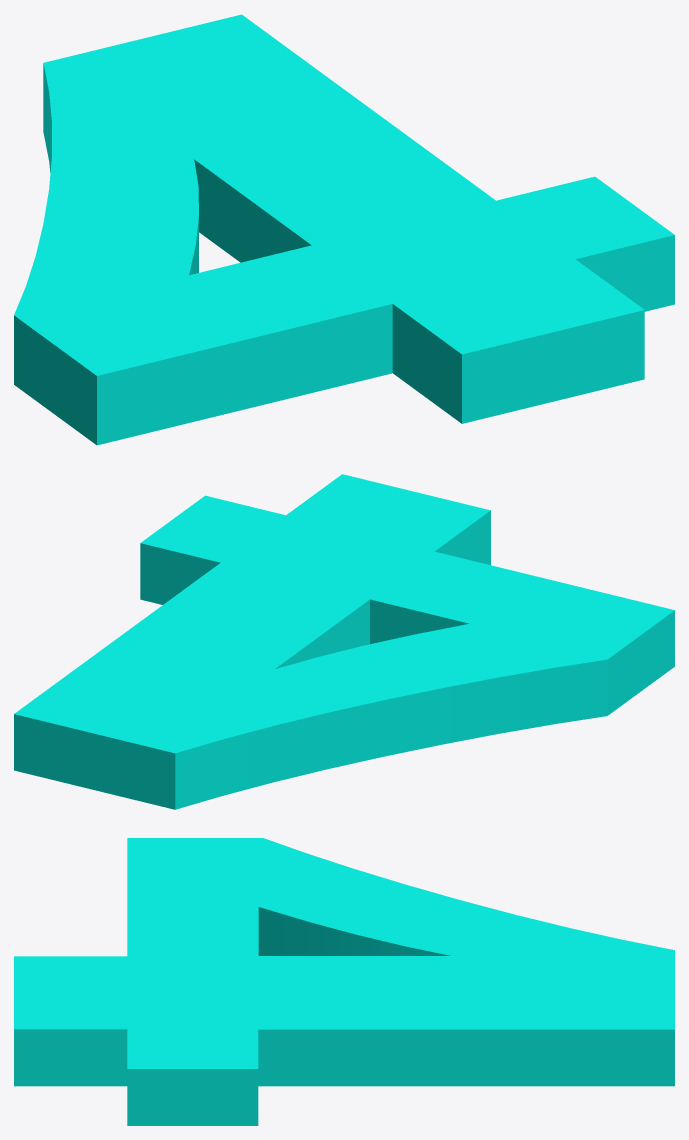
Rendered from NumberModel_4.gltf.
The picture shows the model from 3 angles, top to bottom: view 1: azimuth 30°, elevation 25°; view 2: azimuth 150°, elevation 25°; view 3: azimuth 270°, elevation 25°; orthographic projection. The views are drawn at different scales.
Parts seen in each view (by area): view 1: NumberModel_4; view 2: NumberModel_4; view 3: NumberModel_4.
Part boxes in pixels (box(x1,y1,x2,y2)): NumberModel_4: box(14, 14, 674, 445); NumberModel_4: box(14, 474, 674, 809); NumberModel_4: box(14, 838, 674, 1125).
Size of the model in its own units: 0.6654 by 0.0764 by 0.8046.
